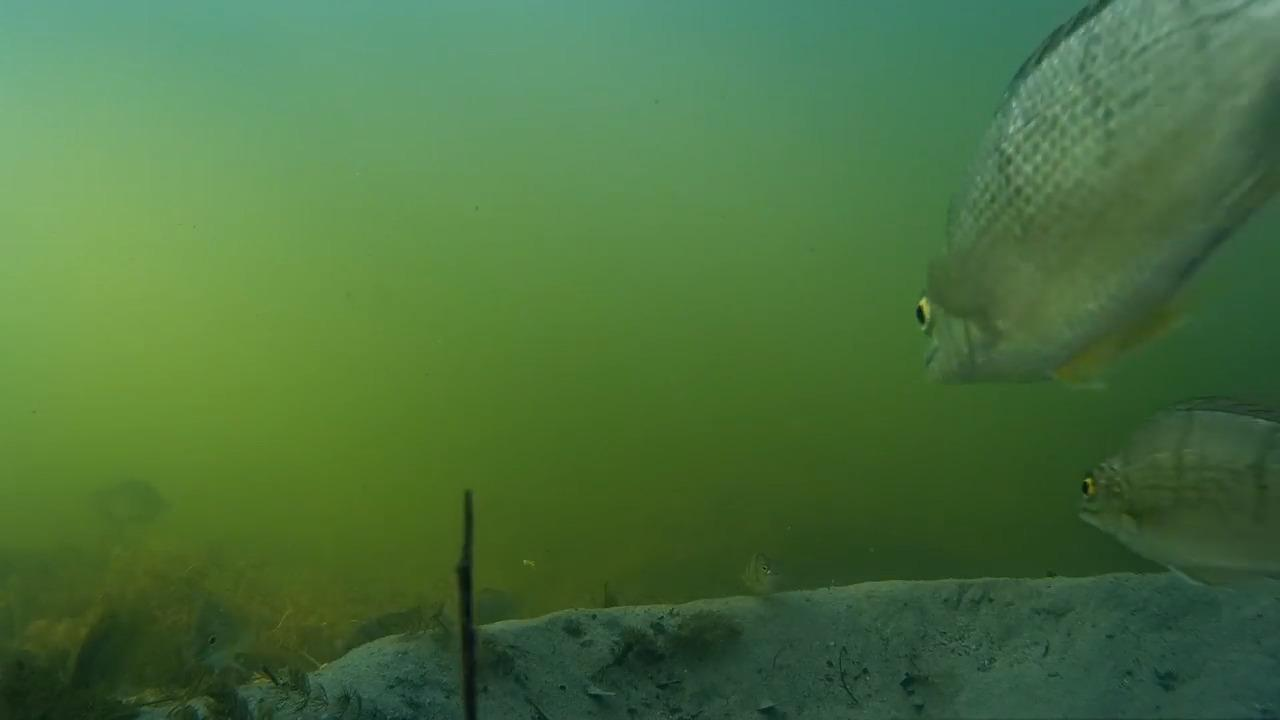Tilapia: (942, 6, 1280, 422), (1073, 393, 1280, 586), (85, 466, 191, 542), (732, 558, 787, 612)
